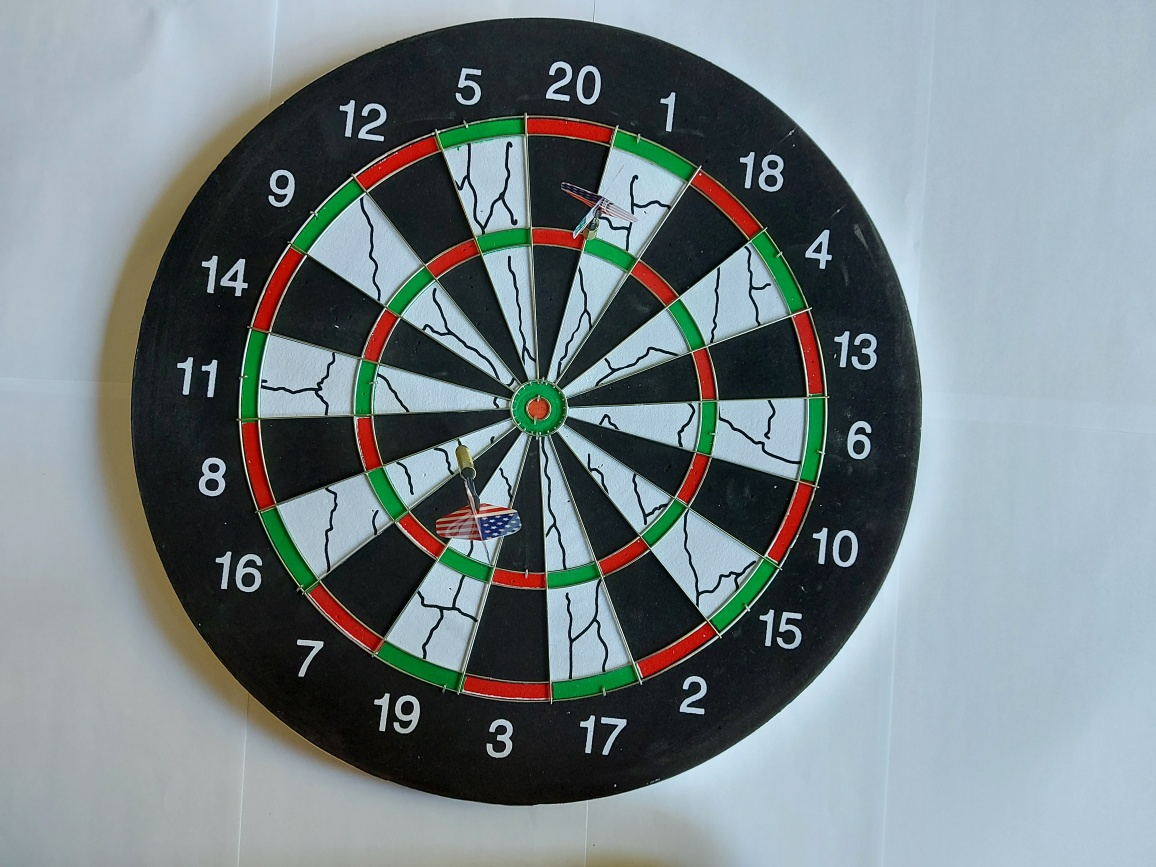Dart: (424, 424, 521, 577), (547, 153, 636, 257)
